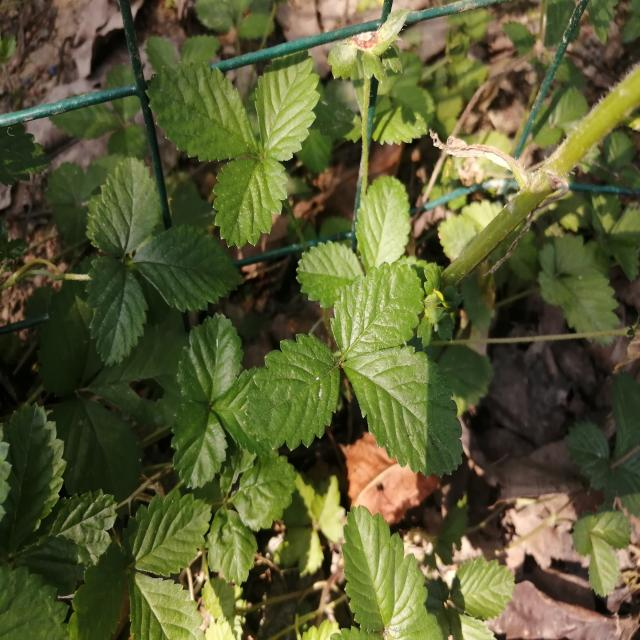Mock_strawberry: (75, 181, 282, 459), (270, 246, 465, 466)
